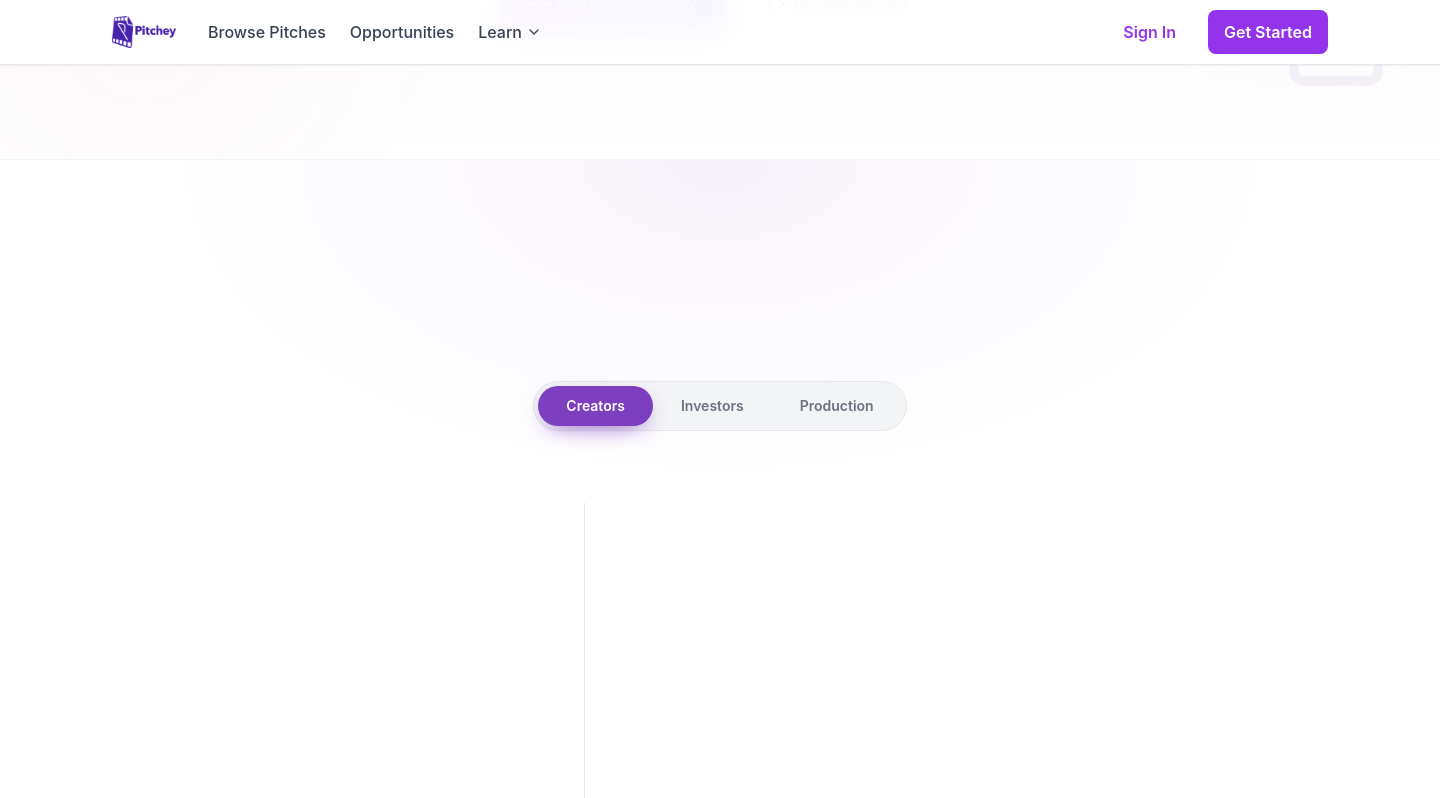
Scenario: HowItWorks › switches to the Investors track when its tab is clicked
(page scrolled)
Expected: the text "Browse curated pitches" is not shown
# The tab pill in the switcher (button, not the nav)
Step 1. Click the button "Investors" → (712, 406), box [653,386,772,426]
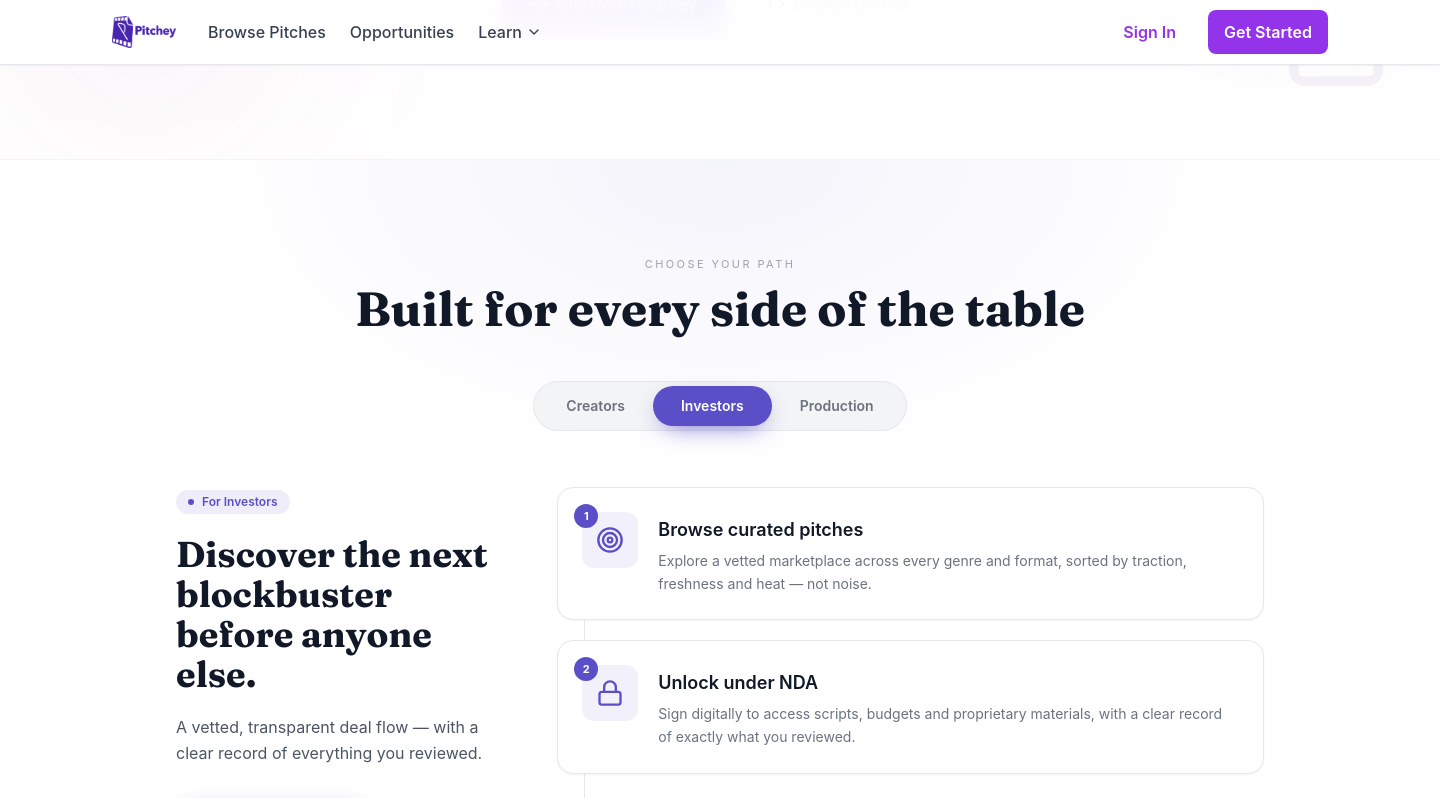
Result: the heading "Browse curated pitches" is shown at [658,519,863,540]
